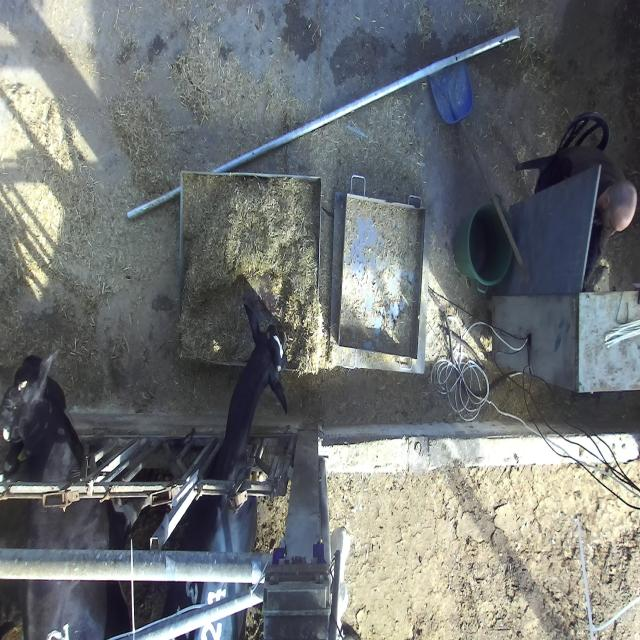cow: (1, 344, 66, 476), (244, 300, 288, 418)
